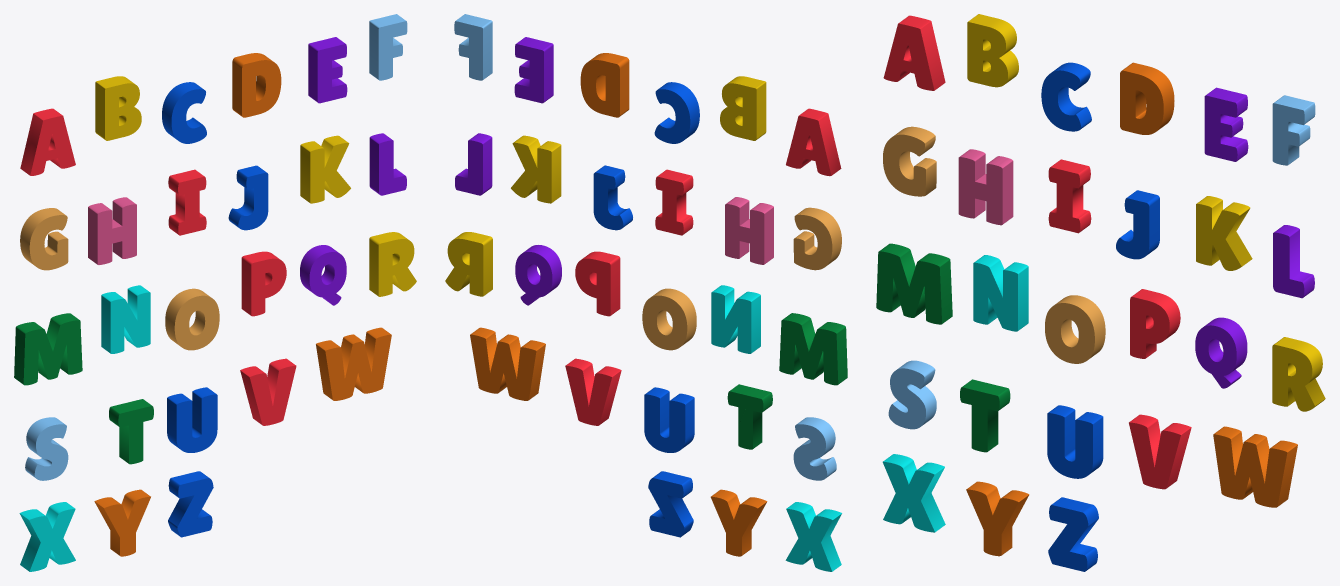
Rendered from alphabets.glb.
The picture shows the model from 3 angles, left to right: view 1: azimuth 30°, elevation 25°; view 2: azimuth 150°, elevation 25°; view 3: azimuth 330°, elevation 25°; orthographic projection. The views are drawn at different scales.
Visible parts, largest first — view 1: w_3, m_13, n_12, h_18, u_5, x_2, d_22, o_11, k_15, v_4, b_24, r_8 (+14 smaller); view 2: w_3, m_13, n_12, u_5, h_18, x_2, d_22, o_11, k_15, b_24, v_4, r_8 (+14 smaller); view 3: w_3, m_13, n_12, h_18, u_5, x_2, d_22, o_11, b_24, r_8, k_15, v_4 (+14 smaller).
Boxes of the visible parts, <box> form: w_3: <box>316,327,391,400</box>; m_13: <box>14,313,82,385</box>; n_12: <box>101,285,150,353</box>; h_18: <box>88,197,136,264</box>; u_5: <box>167,387,217,452</box>; x_2: <box>19,502,75,571</box>; d_22: <box>232,53,281,117</box>; o_11: <box>165,288,219,350</box>; k_15: <box>300,135,350,203</box>; v_4: <box>240,358,296,425</box>; b_24: <box>95,76,141,140</box>; r_8: <box>369,232,416,296</box>; w_3: <box>470,327,545,400</box>; m_13: <box>779,313,847,385</box>; n_12: <box>711,285,760,353</box>; u_5: <box>644,387,694,452</box>; h_18: <box>725,197,773,264</box>; x_2: <box>785,502,841,571</box>; d_22: <box>580,53,629,117</box>; o_11: <box>642,288,696,350</box>; k_15: <box>511,135,561,203</box>; b_24: <box>720,76,766,140</box>; v_4: <box>565,358,621,425</box>; r_8: <box>445,232,492,296</box>; w_3: <box>1213,426,1297,507</box>; m_13: <box>876,243,952,324</box>; n_12: <box>973,255,1028,331</box>; h_18: <box>958,149,1013,225</box>; u_5: <box>1047,405,1103,478</box>; x_2: <box>882,454,945,532</box>; d_22: <box>1120,62,1174,134</box>; o_11: <box>1045,295,1105,363</box>; b_24: <box>967,14,1018,87</box>; r_8: <box>1272,337,1325,411</box>; k_15: <box>1196,196,1252,270</box>; v_4: <box>1129,414,1191,489</box>.
Size of the model in its own units: 22.65 by 26.02 by 1.97.
